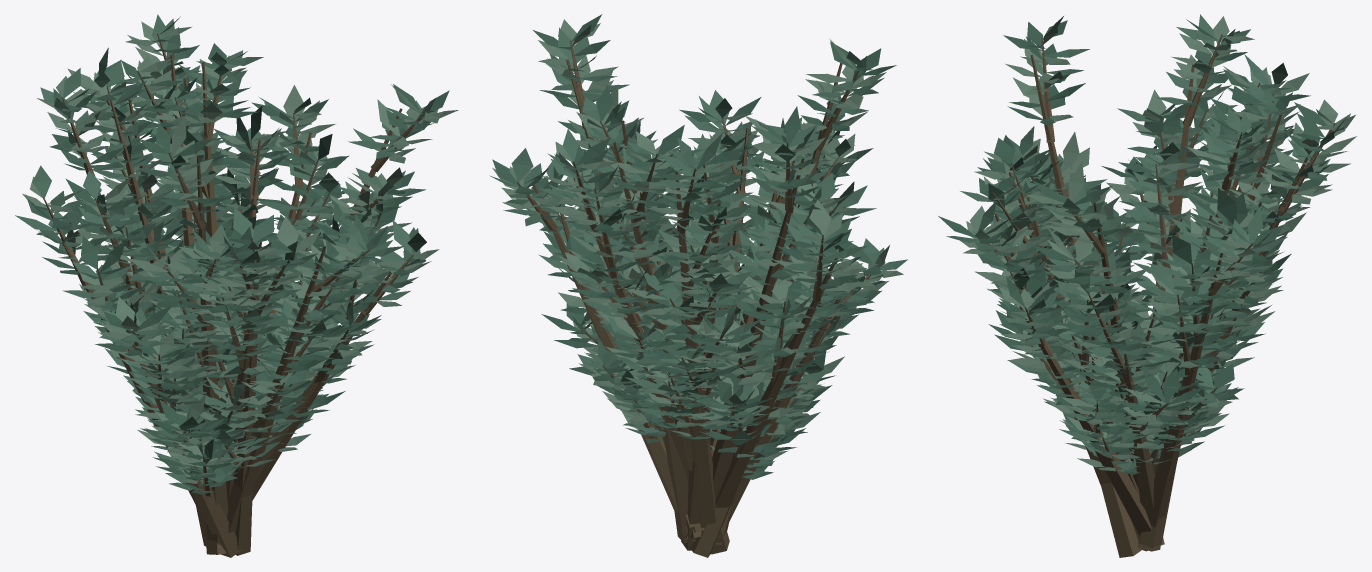
Rendered from bush_12.glb.
3 views of the same model, side by side, from view 1: azimuth 30°, elevation 25°; view 2: azimuth 150°, elevation 25°; view 3: azimuth 270°, elevation 25° (orthographic). The views are drawn at different scales.
Visible parts, largest first — view 1: bush_12; view 2: bush_12; view 3: bush_12.
Boxes of the visible parts, x1,y1,x2,y2 form: bush_12: (15,14,458,557); bush_12: (489,14,907,557); bush_12: (938,14,1356,557).
Bounding box in the file's own units: 1.33 × 1.67 × 1.3.
